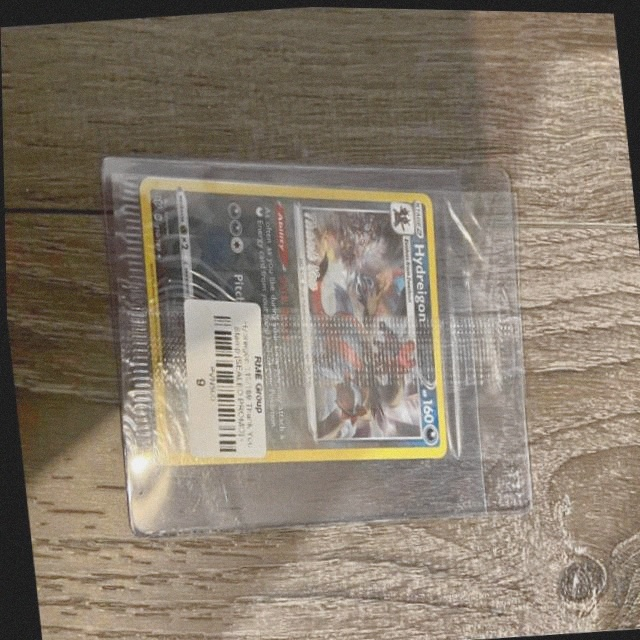card: (137, 175, 444, 464)
